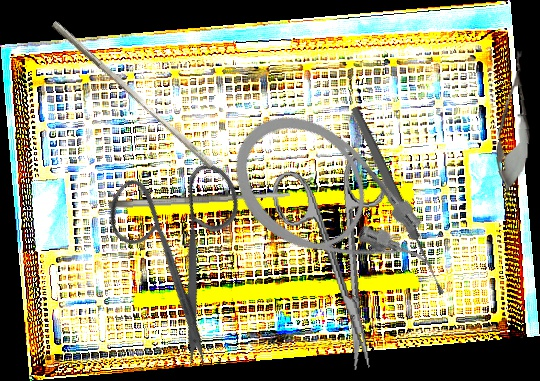Cannula: (208, 90, 458, 325)
Iris Scissors: (62, 126, 312, 375), (267, 150, 417, 379)
Micro Scissor: (492, 49, 536, 194)
Pusher: (45, 20, 220, 170)
Spatula Surgical: (108, 190, 291, 210)
Surgical Spoon: (349, 105, 447, 297)
